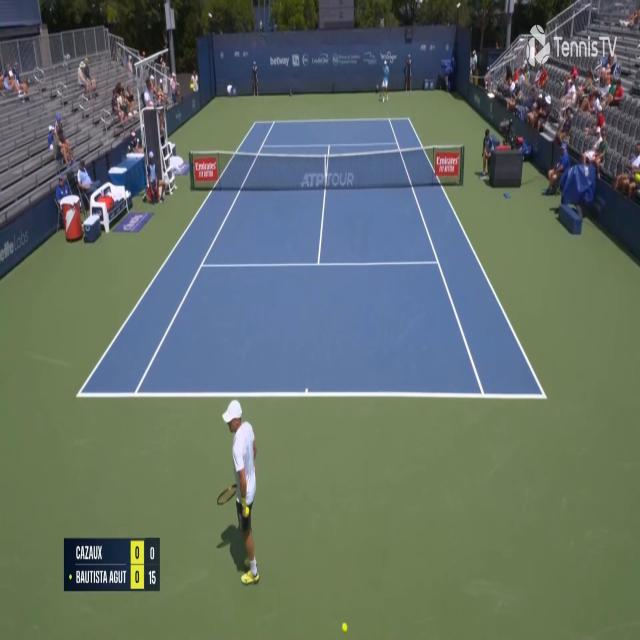tennis-player: (214, 393, 261, 588), (376, 58, 390, 104)
